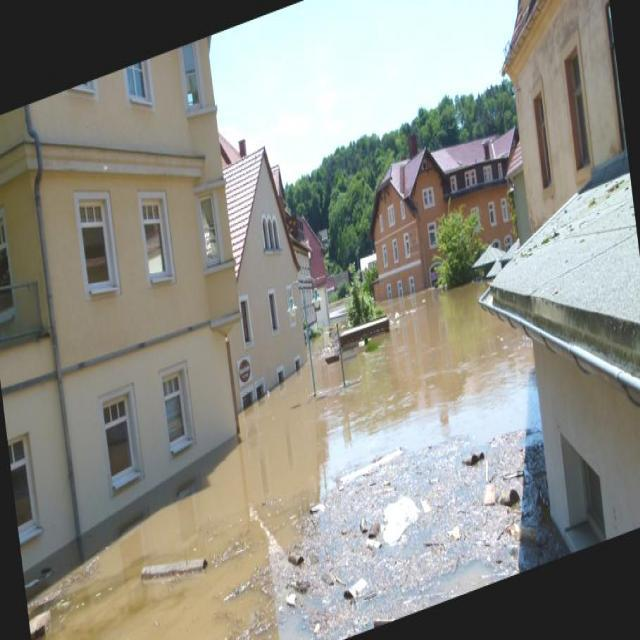flood: (7, 245, 556, 639)
